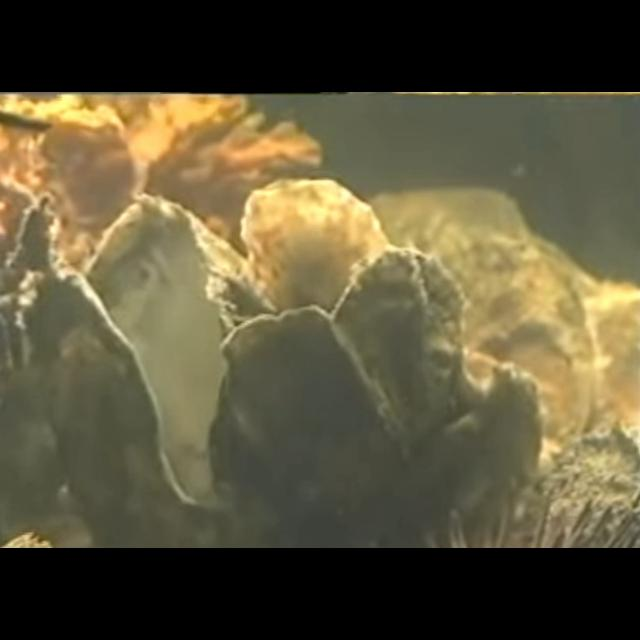Oyster-Closed: (209, 302, 411, 548), (331, 246, 469, 458), (408, 360, 546, 548), (240, 176, 388, 318), (514, 422, 640, 548)
Oyster-Open: (20, 194, 278, 548)
